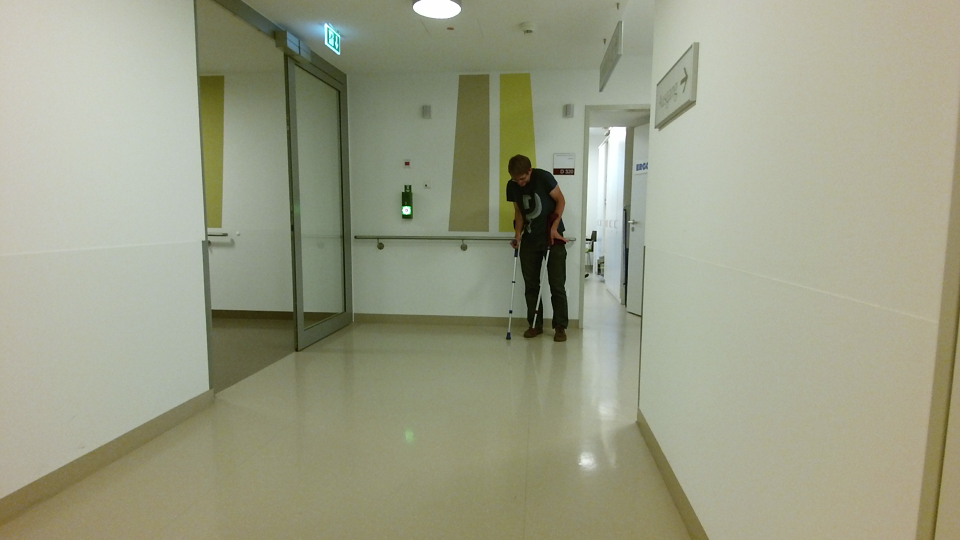crutches: (499, 146, 576, 344)
